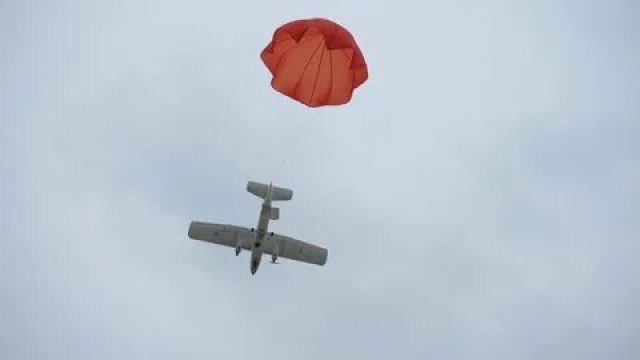military drone: (187, 180, 328, 275)
